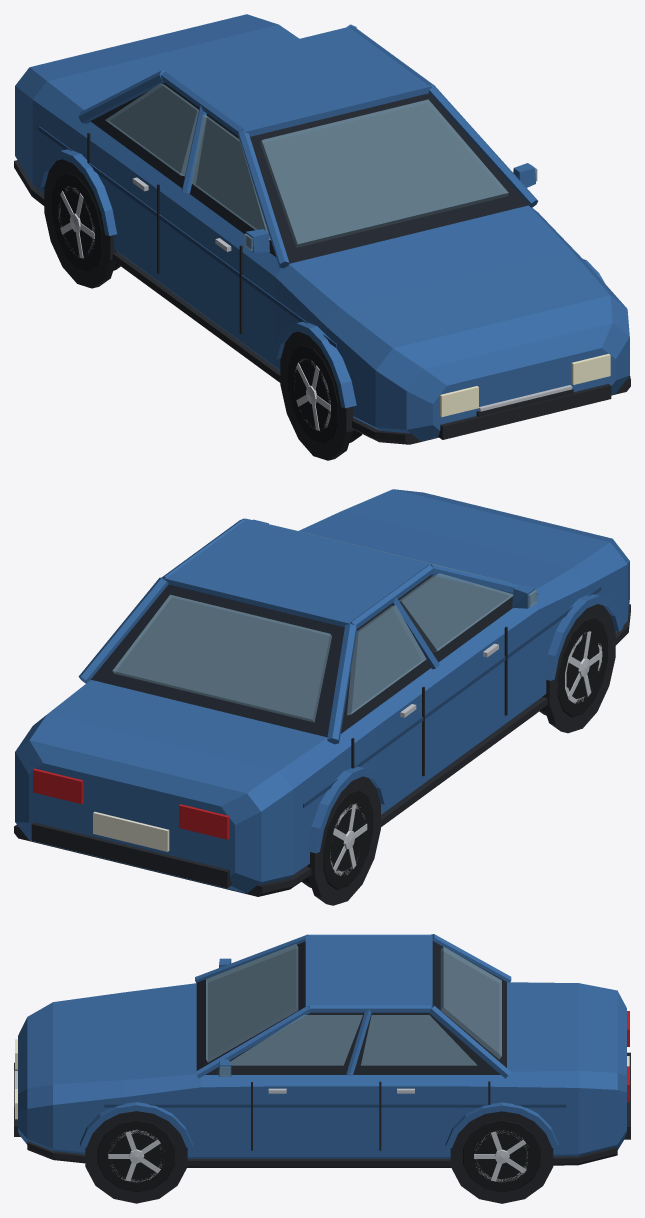
Rendered from CAR_02.obj.
3 views of the same model, one above another, from view 1: azimuth 30°, elevation 25°; view 2: azimuth 150°, elevation 25°; view 3: azimuth 270°, elevation 25° (orthographic). The views are drawn at different scales.
Visible parts, largest first — view 1: body, cabin, glass, wheel_FL_arch, wheel_RL_arch, wheel_FL, wheel_RL, fascia, body_detail, lights, mirrors; view 2: body, cabin, glass, fascia, wheel_RL_arch, wheel_FL_arch, wheel_RL, wheel_FL, lights, body_detail; view 3: body, cabin, glass, wheel_FR, wheel_RR, wheel_FR_arch, wheel_RR_arch, body_detail, fascia, lights.
Part boxes in pixels (bbox=[...]): body: bbox=[14, 14, 630, 444]; cabin: bbox=[78, 24, 537, 268]; glass: bbox=[105, 83, 508, 247]; wheel_FL_arch: bbox=[272, 321, 356, 460]; wheel_RL_arch: bbox=[36, 149, 117, 288]; wheel_FL: bbox=[288, 344, 362, 444]; wheel_RL: bbox=[51, 172, 120, 272]; fascia: bbox=[438, 384, 611, 439]; body_detail: bbox=[38, 126, 336, 347]; lights: bbox=[440, 354, 610, 416]; mirrors: bbox=[244, 163, 537, 252]; body: bbox=[14, 489, 630, 896]; cabin: bbox=[78, 518, 538, 744]; glass: bbox=[112, 527, 513, 722]; fascia: bbox=[31, 812, 231, 888]; wheel_RL_arch: bbox=[306, 766, 388, 905]; wheel_FL_arch: bbox=[542, 593, 623, 733]; wheel_RL: bbox=[301, 789, 373, 889]; wheel_FL: bbox=[539, 617, 607, 717]; lights: bbox=[33, 768, 229, 839]; body_detail: bbox=[303, 586, 601, 807]; body: bbox=[18, 982, 626, 1167]; cabin: bbox=[195, 934, 511, 1078]; glass: bbox=[206, 944, 501, 1065]; wheel_FR: bbox=[97, 1120, 175, 1191]; wheel_RR: bbox=[463, 1120, 540, 1192]; wheel_FR_arch: bbox=[80, 1102, 192, 1203]; wheel_RR_arch: bbox=[445, 1102, 558, 1203]; body_detail: bbox=[104, 1081, 566, 1150]; fascia: bbox=[14, 1052, 630, 1139]; lights: bbox=[15, 1011, 629, 1119].
Size of the model in its own units: 2 by 1.57 by 4.81.
